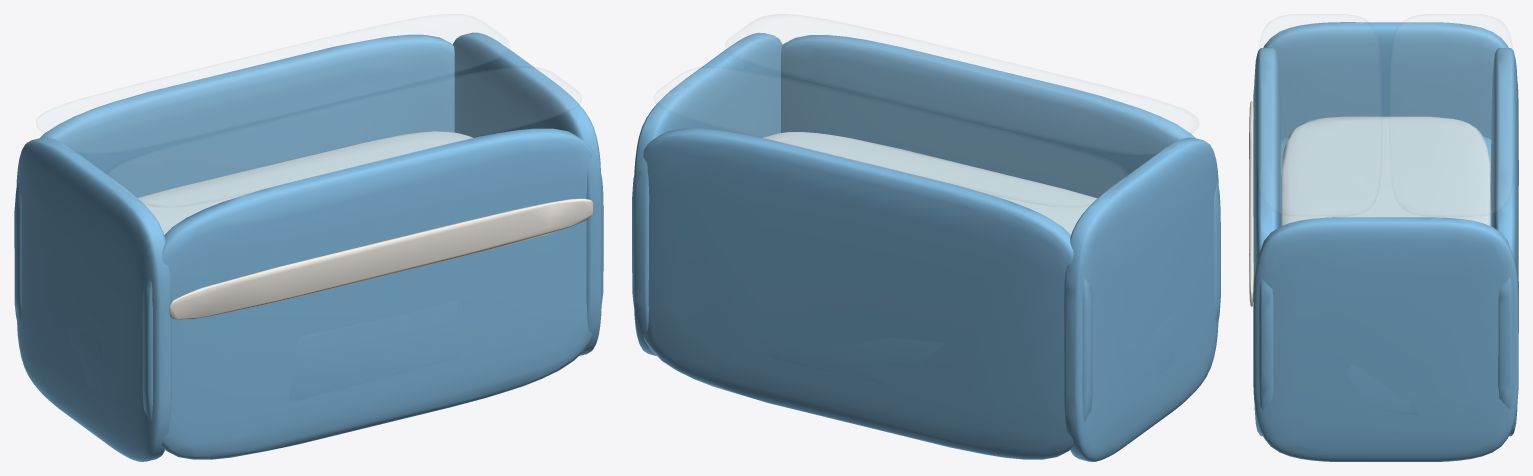
File: vitrina_congelador_2.glb
3 views of the same model, side by side, from view 1: azimuth 30°, elevation 25°; view 2: azimuth 150°, elevation 25°; view 3: azimuth 270°, elevation 25° (orthographic). The views are drawn at different scales.
Parts seen in each view (by area): view 1: pared.006, pared.007, pared.004, franja.001, pared.005, cuerpo bajo.001, hielo.001; view 2: pared.007, pared.006, pared.004, pared.005, hielo.001, cuerpo bajo.001; view 3: pared.005, pared.004, hielo.001, pared.007, pared.006, cuerpo bajo.001, franja.001.
Boxes of the visible parts, x1=… form: pared.006: x1=142, y1=128, x2=603, y2=459; pared.007: x1=14, y1=34, x2=454, y2=325; pared.004: x1=16, y1=137, x2=171, y2=461; franja.001: x1=169, y1=198, x2=593, y2=319; pared.005: x1=452, y1=32, x2=601, y2=355; cuerpo bajo.001: x1=65, y1=301, x2=462, y2=402; hielo.001: x1=138, y1=131, x2=473, y2=234; pared.007: x1=632, y1=128, x2=1092, y2=459; pared.006: x1=781, y1=35, x2=1220, y2=324; pared.004: x1=1064, y1=137, x2=1218, y2=461; pared.005: x1=633, y1=32, x2=782, y2=355; hielo.001: x1=762, y1=132, x2=1097, y2=234; cuerpo bajo.001: x1=766, y1=313, x2=1175, y2=386; pared.005: x1=1253, y1=217, x2=1518, y2=461; pared.004: x1=1253, y1=22, x2=1518, y2=185; hielo.001: x1=1281, y1=116, x2=1490, y2=226; pared.007: x1=1491, y1=48, x2=1518, y2=436; pared.006: x1=1253, y1=48, x2=1280, y2=436; cuerpo bajo.001: x1=1280, y1=136, x2=1491, y2=415; franja.001: x1=1249, y1=101, x2=1253, y2=306.
Bounding box in the file's own units: 1.4 × 0.7897 × 0.7711.
